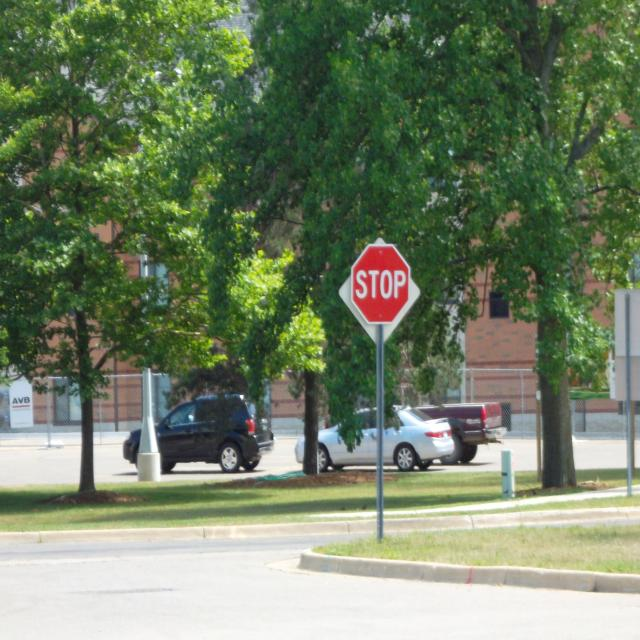stop: (350, 243, 409, 326)
